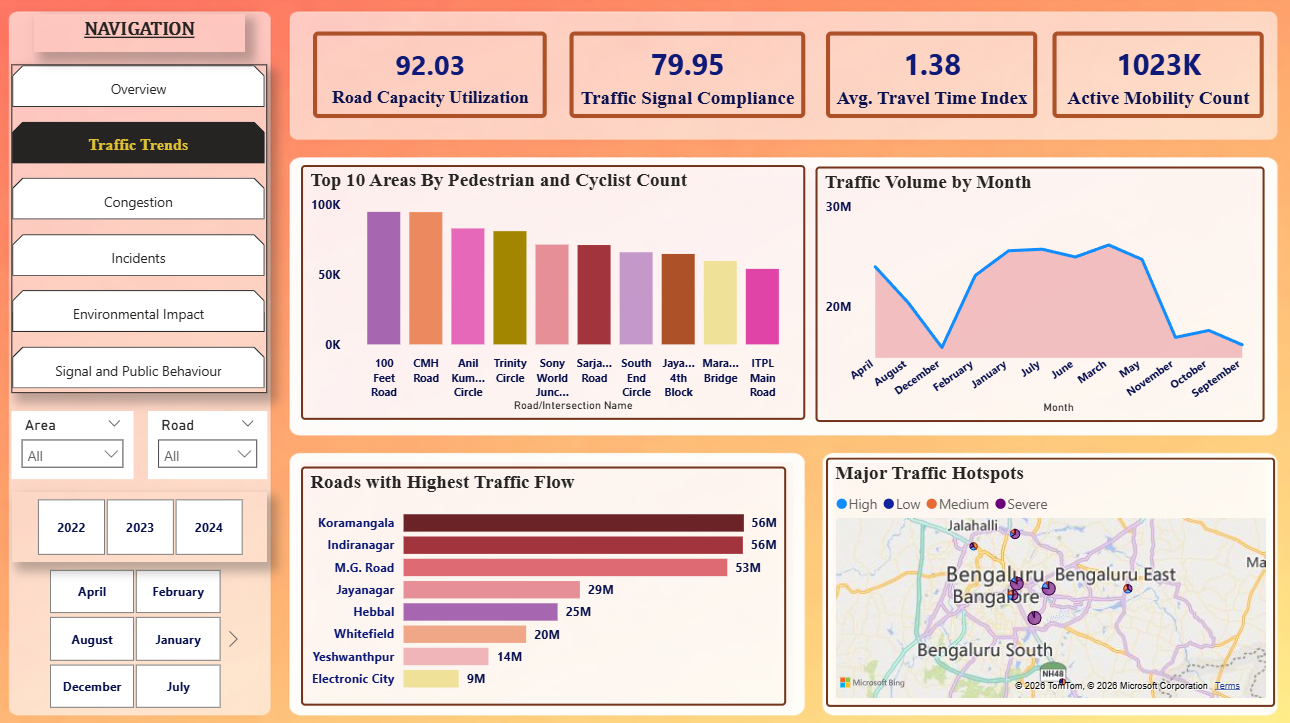

This screenshot's page, from the dashboard's own definition file:
{"tool":"powerbi","page":{"name":"Traffic Trends","canvas":[1280,720],"ordinal":1},"visuals":[{"type":"card","fields":{"Values":["Measures Table.Average Road Capacity Utilization"]},"box":[316.9,37.3,228.8,84.7],"z":0,"group":"g1"},{"type":"columnChart","title":"Top 10 Areas By Pedestrian and Cyclist Count","fields":{"Category":["Banglore_traffic_Dataset.Road/Intersection Name"],"Y":["Sum(Banglore_traffic_Dataset.Pedestrian and Cyclist Count)"]},"box":[305.1,167.8,493.2,249.2],"z":0},{"type":"slicer","fields":{"Values":["Banglore_traffic_Dataset.Area Name"]},"box":[22.7,407.3,119.6,66.6],"z":0,"group":"g6"},{"type":"slicer","fields":{"Values":["Banglore_traffic_Dataset.Road/Intersection Name"]},"box":[156,407.3,116.6,66.6],"z":1000,"group":"g6"},{"type":"barChart","title":"Roads with Highest Traffic Flow","fields":{"Y":["Sum(Banglore_traffic_Dataset.Traffic Volume)"],"Category":["Banglore_traffic_Dataset.Area Name"]},"box":[305.1,462.7,474.6,233.9],"z":1000},{"type":"card","fields":{"Values":["Measures Table.Traffic Signal Compliance"]},"box":[567.7,37.3,230.5,84.7],"z":2000,"group":"g3"},{"type":"slicer","fields":{"Values":["Banglore_traffic_Dataset.Month"]},"box":[33.3,556.4,216.5,149.2],"z":2000},{"type":"map","title":"Major Traffic Hotspots","fields":{"Size":["Sum(Banglore_traffic_Dataset.Traffic Volume)"],"Category":["Banglore_traffic_Dataset.Area Name"],"Series":["Banglore_traffic_Dataset.Congestion Level Category"]},"box":[819.2,452.7,439.1,243.8],"z":3000},{"type":"group","id":"g1","title":"Group 1","box":[316.9,37.3,228.8,84.7],"z":4000,"group":"g2"},{"type":"card","fields":{"Values":["Measures Table.Avg. Travel Time Index"]},"box":[818.6,37.3,206.8,84.7],"z":4000,"group":"g5"},{"type":"card","fields":{"Values":["Sum(Banglore_traffic_Dataset.Pedestrian and Cyclist Count)"]},"box":[1040.6,37.3,206.8,84.7],"z":4000,"group":"g4"},{"type":"stackedAreaChart","title":"Traffic Volume by Month","fields":{"Category":["Banglore_traffic_Dataset.Month","Banglore_traffic_Dataset.Area Name"],"Y":["Sum(Banglore_traffic_Dataset.Traffic Volume)"]},"box":[808.6,168.1,439.1,249.8],"z":4000},{"type":"group","id":"g2","title":"Group 6","box":[316.9,37.3,930.5,84.7],"z":5000},{"type":"group","id":"g3","title":"Group 3","box":[567.7,37.3,230.5,84.7],"z":5000,"group":"g2"},{"type":"group","id":"g4","title":"Group 4","box":[1040.6,37.3,206.8,84.7],"z":6000,"group":"g2"},{"type":"pageNavigator","box":[22.7,69.7,249.8,321],"z":6000},{"type":"group","id":"g5","title":"Group 4","box":[818.6,37.3,206.8,84.7],"z":7000,"group":"g2"},{"type":"slicer","fields":{"Values":["Banglore_traffic_Dataset.Year"]},"box":[22.7,487.6,249.8,68.1],"z":7000},{"type":"group","id":"g6","title":"Group 2","box":[22.7,407.3,249.8,66.6],"z":8000},{"type":"textbox","box":[43.9,19.7,205.9,37.9],"z":9000}]}

Visuals, with their boxes in screenshot pixels (x1, y1, x2, y2), scaled from the page's 1280x720 canvas onto the 1290x723 screenshot:
card - Measures Table.Average Road Capacity Utilization: rect(319, 37, 550, 123)
"Top 10 Areas By Pedestrian and Cyclist Count" columnChart: rect(307, 168, 805, 419)
slicer - Banglore_traffic_Dataset.Area Name: rect(23, 409, 143, 476)
slicer - Banglore_traffic_Dataset.Road/Intersection Name: rect(157, 409, 275, 476)
"Roads with Highest Traffic Flow" barChart: rect(307, 465, 786, 700)
card - Measures Table.Traffic Signal Compliance: rect(572, 37, 804, 123)
slicer - Banglore_traffic_Dataset.Month: rect(34, 559, 252, 709)
"Major Traffic Hotspots" map: rect(826, 455, 1268, 699)
"Group 1" group: rect(319, 37, 550, 123)
card - Measures Table.Avg. Travel Time Index: rect(825, 37, 1033, 123)
card - Sum(Banglore_traffic_Dataset.Pedestrian and Cyclist Count): rect(1049, 37, 1257, 123)
"Traffic Volume by Month" stackedAreaChart: rect(815, 169, 1257, 420)
"Group 6" group: rect(319, 37, 1257, 123)
"Group 3" group: rect(572, 37, 804, 123)
"Group 4" group: rect(1049, 37, 1257, 123)
pageNavigator: rect(23, 70, 275, 392)
"Group 4" group: rect(825, 37, 1033, 123)
slicer - Banglore_traffic_Dataset.Year: rect(23, 490, 275, 558)
"Group 2" group: rect(23, 409, 275, 476)
textbox: rect(44, 20, 252, 58)
